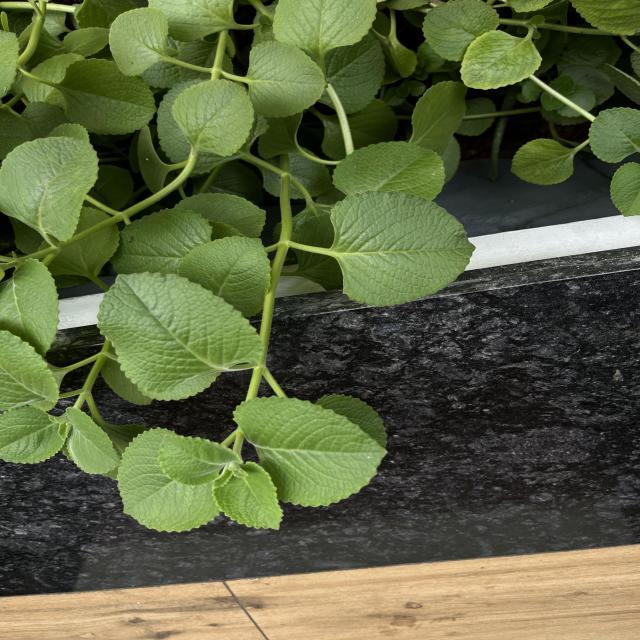Plectranthus barbatus: (94, 270, 263, 402), (232, 394, 390, 510), (329, 189, 477, 309), (116, 426, 222, 534), (0, 136, 100, 244), (176, 235, 273, 318), (61, 57, 158, 137), (171, 78, 255, 158), (246, 40, 326, 120), (459, 28, 544, 90), (212, 462, 285, 532), (422, 0, 501, 63), (156, 433, 244, 488), (410, 80, 468, 158), (108, 7, 170, 78), (0, 406, 66, 466), (66, 406, 122, 476), (508, 138, 576, 186), (586, 105, 640, 165)
